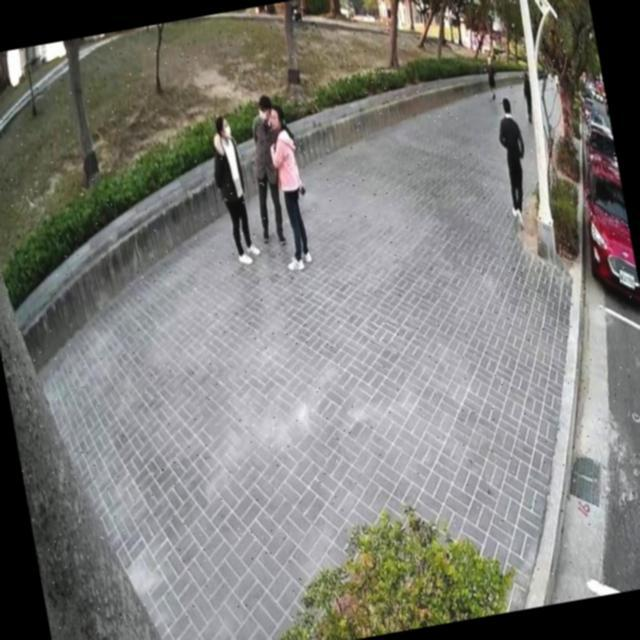person: (254, 97, 320, 276), (200, 106, 263, 270), (234, 86, 296, 249), (485, 89, 541, 232), (516, 67, 538, 126), (478, 48, 502, 101)
